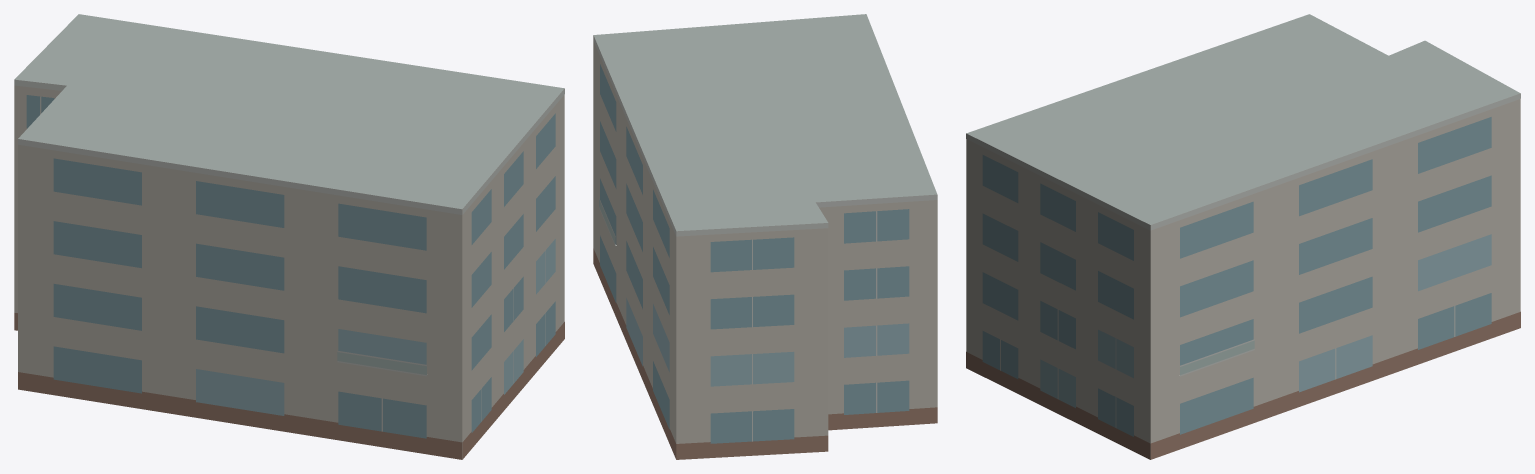
The model's file is survey-upis-32961651.glb.
3 renders of one model, left to right at view 1: azimuth 30°, elevation 25°; view 2: azimuth 150°, elevation 25°; view 3: azimuth 270°, elevation 25°, orthographic. The views are drawn at different scales.
Parts seen in each view (by area): view 1: survey-upis-32961651.tmp; view 2: survey-upis-32961651.tmp; view 3: survey-upis-32961651.tmp.
Boxes of the visible parts, x1,y1,x2,y2 form: survey-upis-32961651.tmp: [14, 14, 564, 459]; survey-upis-32961651.tmp: [593, 14, 937, 459]; survey-upis-32961651.tmp: [966, 14, 1520, 459].
Size of the model in its own units: 20.07 by 10.4 by 22.27.
